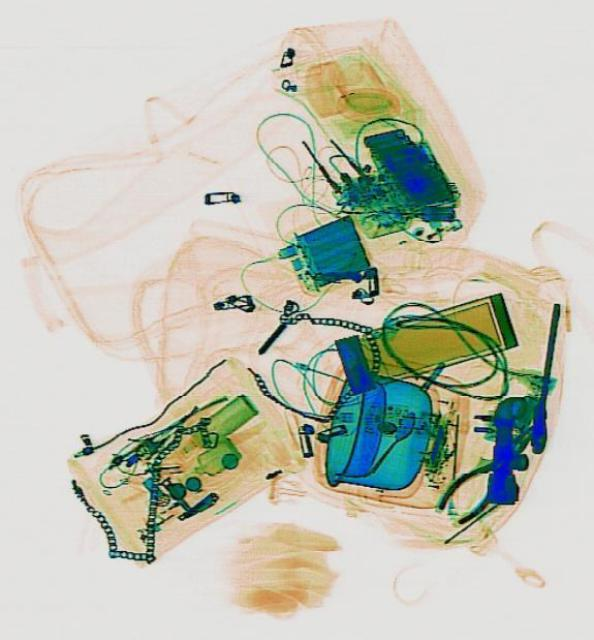Pliers: (428, 408, 551, 532)
